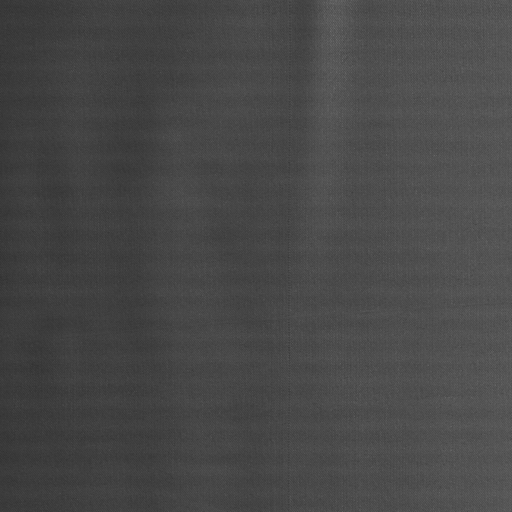defect: (282, 1, 295, 512)
